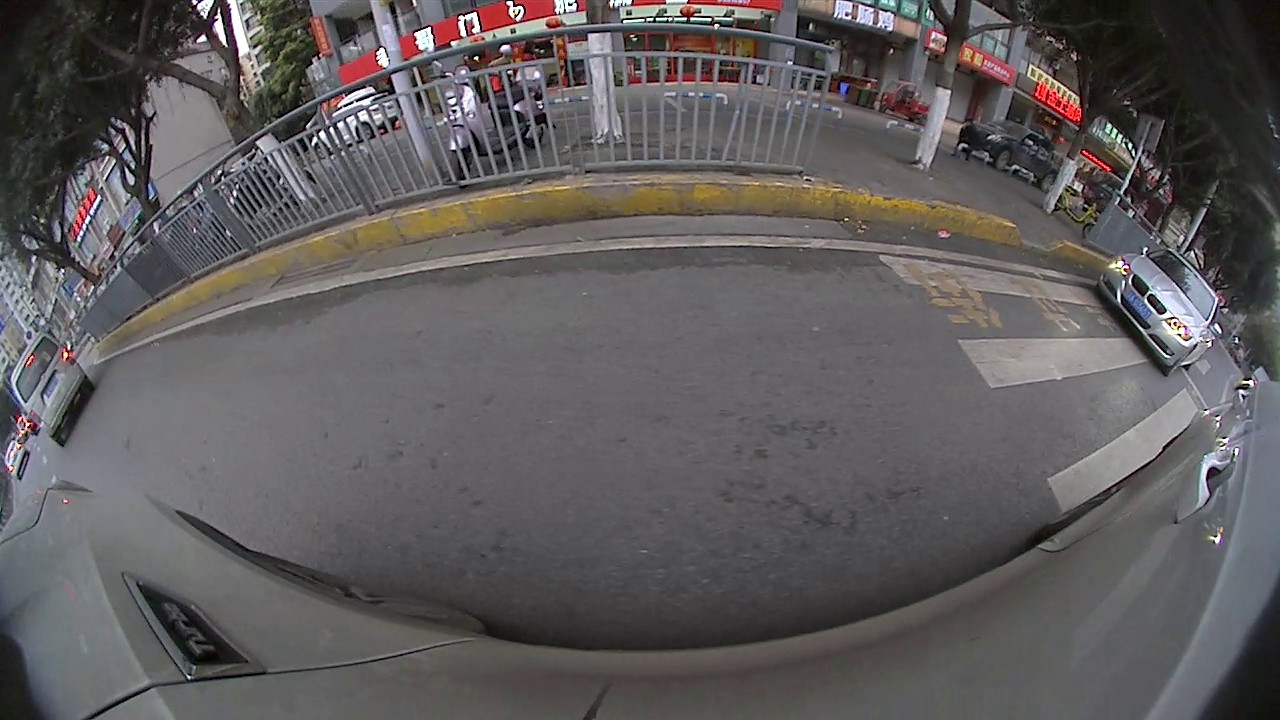car: (939, 173, 1150, 359), (374, 52, 622, 152), (4, 277, 87, 381)
front: (390, 118, 430, 149)
rear: (1059, 313, 1099, 356), (542, 98, 588, 129), (1161, 449, 1202, 483)
